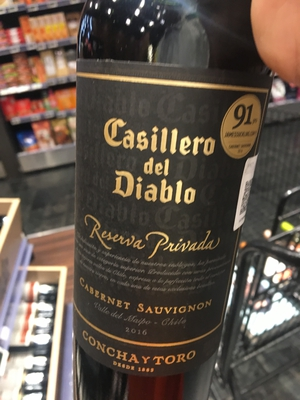casillero del diablo reserva privada cabernet sauvignon: (59, 13, 287, 385)
